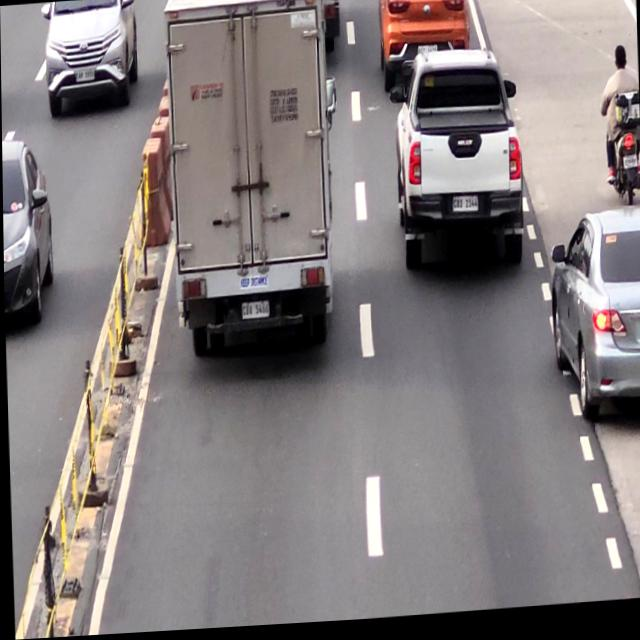Car: (397, 55, 512, 277), (548, 219, 640, 418), (376, 0, 472, 82)
License-Plate: (451, 198, 480, 220), (238, 302, 268, 323)
Motorcycle: (601, 52, 640, 209)
Truck: (167, 0, 335, 352)
